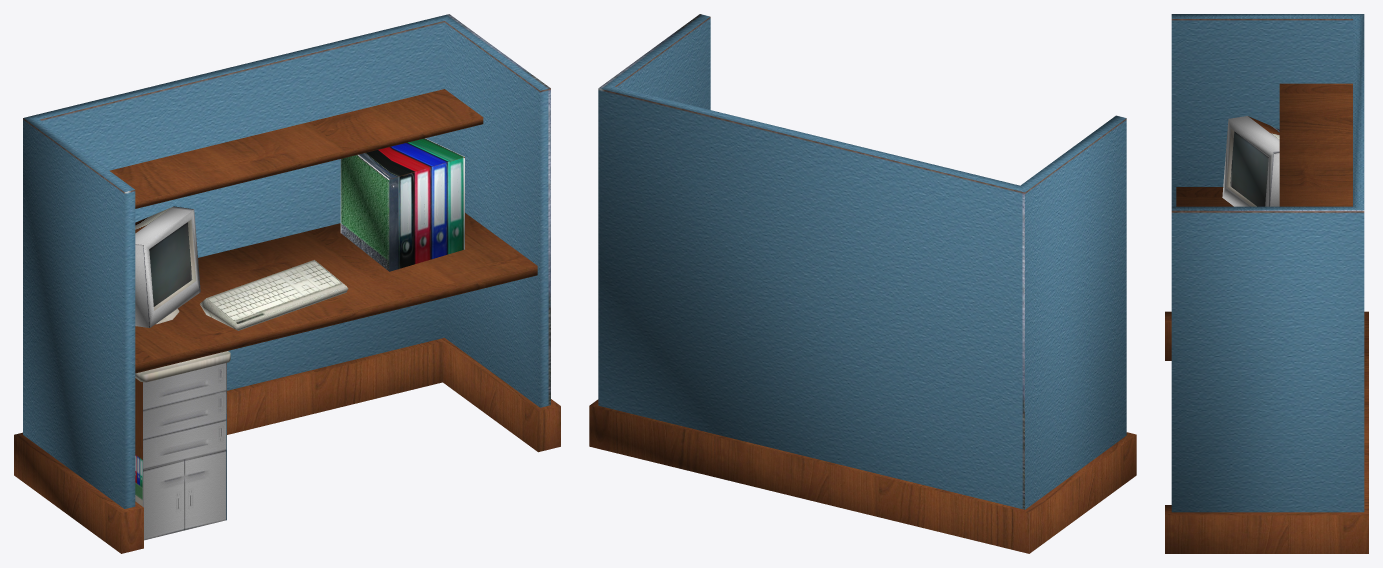
The model's file is stalas.fbx.
3 views of the same model, side by side, from view 1: azimuth 30°, elevation 25°; view 2: azimuth 150°, elevation 25°; view 3: azimuth 270°, elevation 25° (orthographic). The views are drawn at different scales.
Parts seen in each view (by area): view 1: MED_OFFICE2_DESK_1; view 2: MED_OFFICE2_DESK_1; view 3: MED_OFFICE2_DESK_1.
Part boxes in pixels (x1,y1,x2,y2): MED_OFFICE2_DESK_1: (14,14,560,553); MED_OFFICE2_DESK_1: (589,14,1136,553); MED_OFFICE2_DESK_1: (1165,14,1368,553).
Bounding box in the file's own units: 198 × 154 × 83.67.
Materials: 1 (1 with a texture image).
